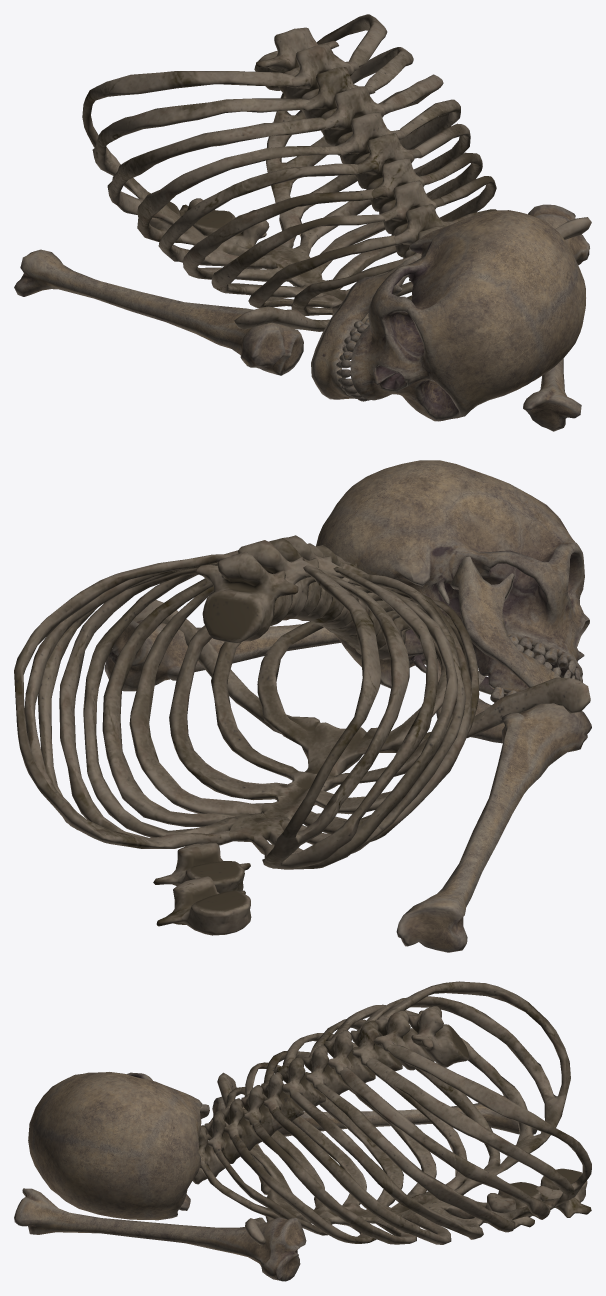
The model's file is sm_Skeleton_01_06.fbx.
3 renders of one model, top to bottom at view 1: azimuth 30°, elevation 25°; view 2: azimuth 150°, elevation 25°; view 3: azimuth 270°, elevation 25°, orthographic. The views are drawn at different scales.
Visible parts, largest first — view 1: sm_Skeleton_01_06_LOD0; view 2: sm_Skeleton_01_06_LOD0; view 3: sm_Skeleton_01_06_LOD0.
Boxes of the visible parts, x1,y1,x2,y2 form: sm_Skeleton_01_06_LOD0: [14, 14, 591, 431]; sm_Skeleton_01_06_LOD0: [14, 460, 591, 952]; sm_Skeleton_01_06_LOD0: [14, 981, 591, 1281].
Bounding box in the file's own units: 50.73 × 66.33 × 27.51.
